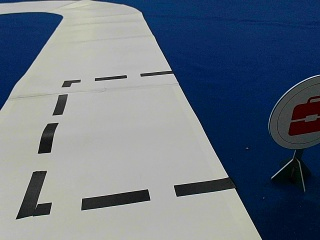company: (269, 76, 319, 148)
